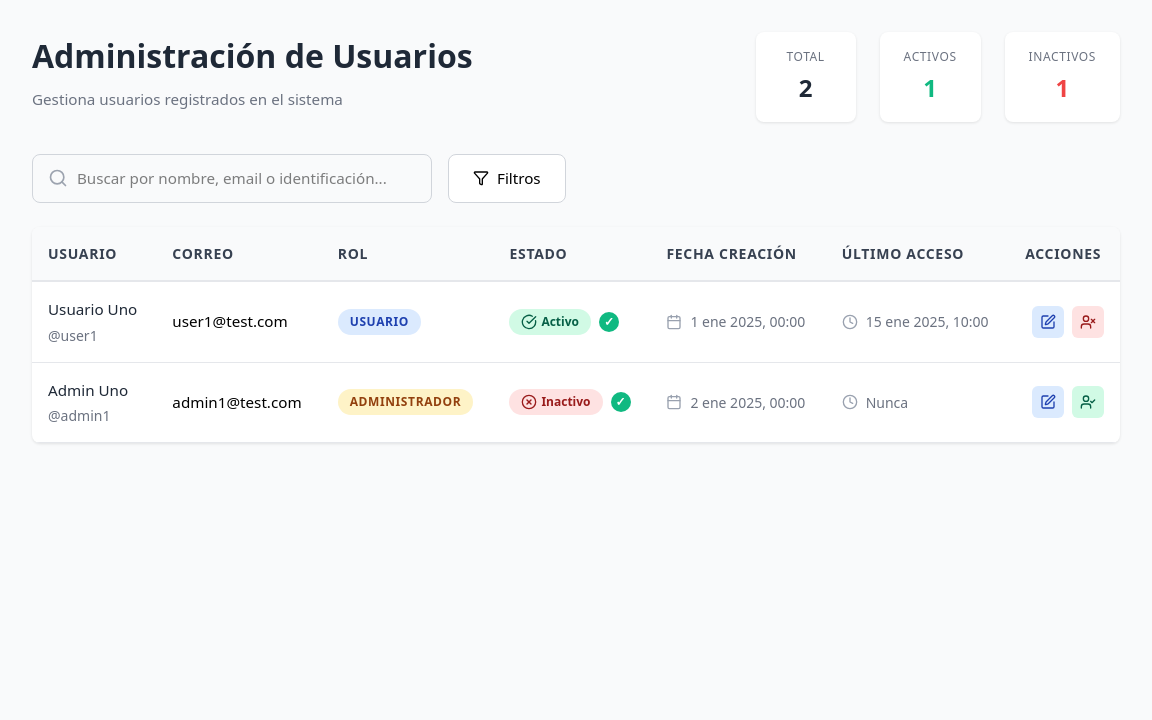
Test: AdminUsers › debe limpiar filtros correctamente
The width and height of the screenshot is (1152, 720).
Expected: the text "Usuario Uno" is shown, [48, 298, 140, 321]
Click the button "Filtros". click: point(507, 178)
box: [448, 154, 566, 203]
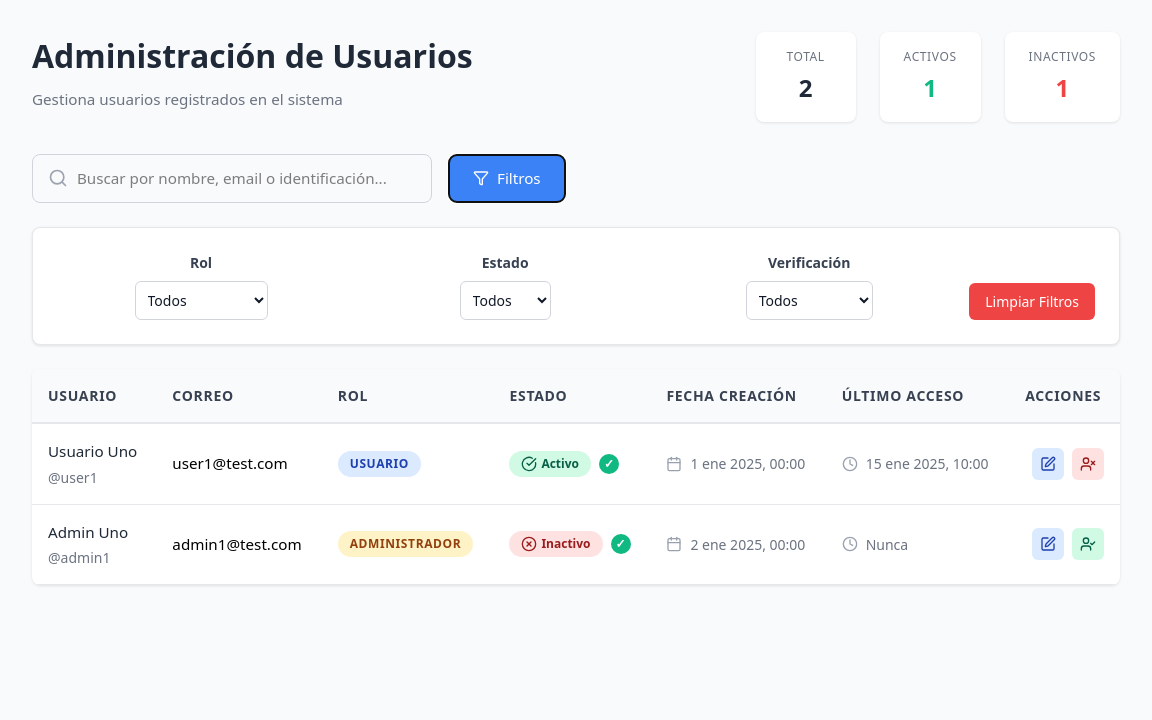
Type "test" into the field with placeholder "Buscar por nombre, email o identificación...". click: point(232, 178)
box: [32, 154, 432, 203]
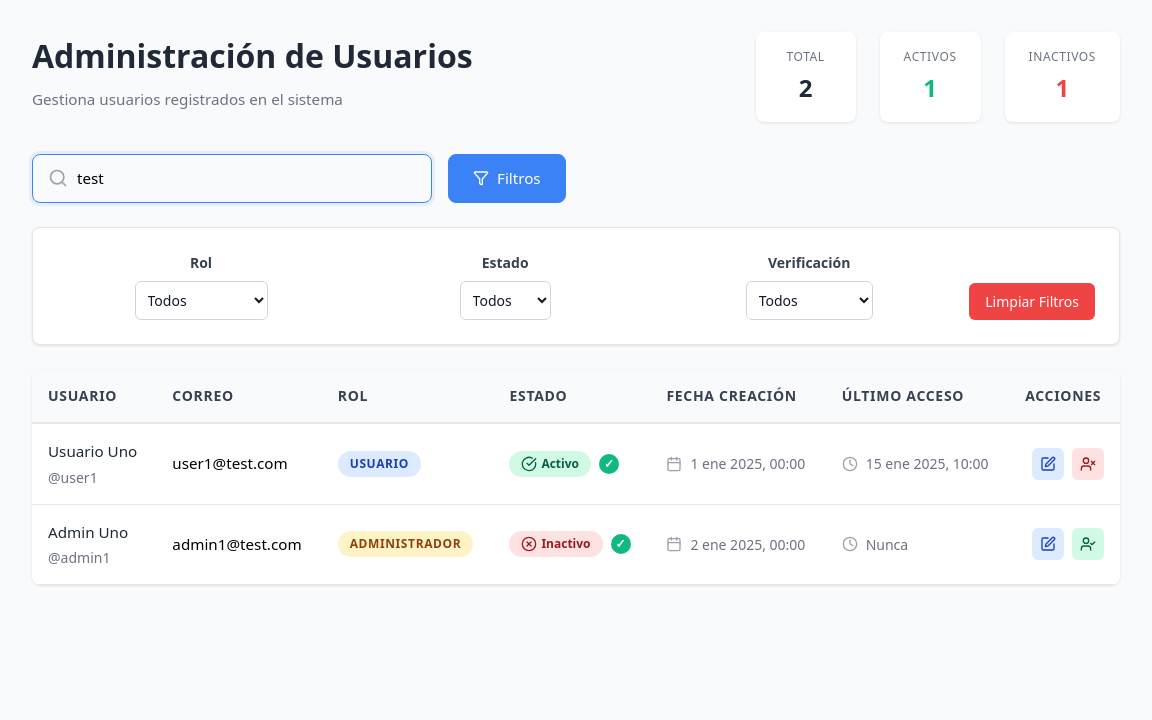
Click the button "Limpiar Filtros". click: point(1032, 301)
box: [969, 283, 1095, 320]
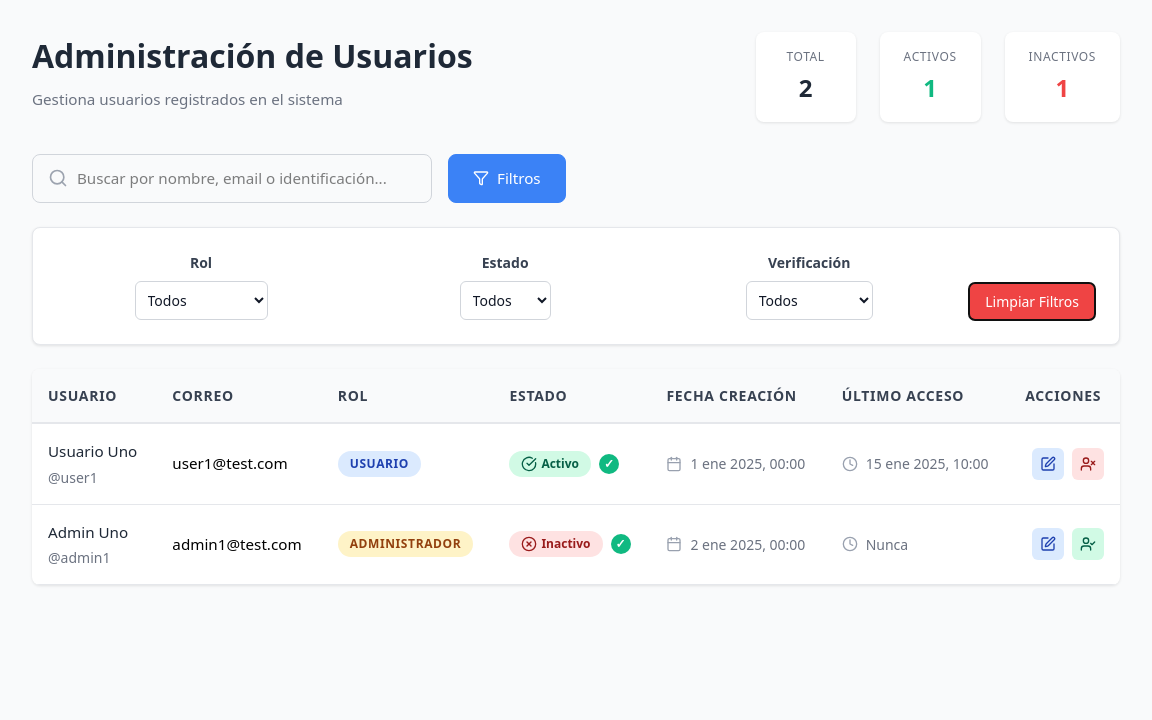
Expected: the text "Usuario Uno" is shown, [48, 440, 140, 463]
Now the field with placeholder "Buscar por nombre, email o identificación..." is empty, box [32, 154, 432, 203]
